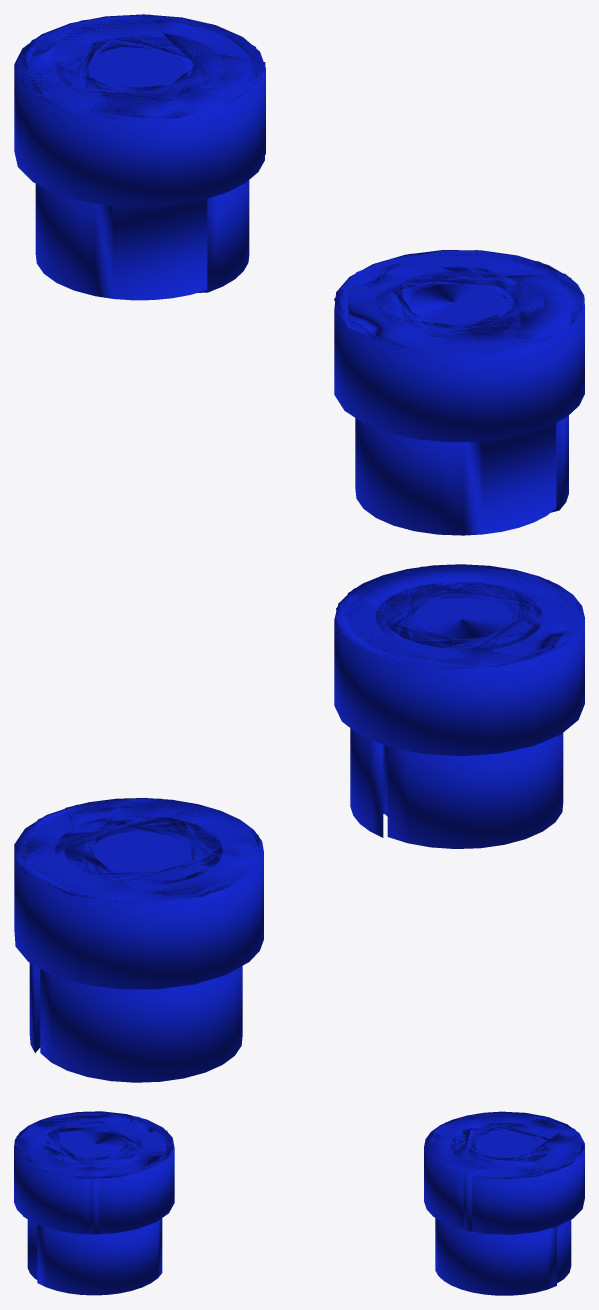
The model's file is tuyeau_element_000094.obj.
The picture shows the model from 3 angles, top to bottom: view 1: azimuth 30°, elevation 25°; view 2: azimuth 150°, elevation 25°; view 3: azimuth 270°, elevation 25°; orthographic projection. The views are drawn at different scales.
Parts seen in each view (by area): view 1: tuyeau1_Cube.014, tuyeau2_Cube.017; view 2: tuyeau2_Cube.017, tuyeau1_Cube.014; view 3: tuyeau1_Cube.014, tuyeau2_Cube.017.
Boxes of the visible parts, x1,y1,x2,y2 form: tuyeau1_Cube.014: (14, 14, 265, 300); tuyeau2_Cube.017: (334, 250, 584, 535); tuyeau2_Cube.017: (334, 564, 584, 848); tuyeau1_Cube.014: (14, 798, 263, 1082); tuyeau1_Cube.014: (424, 1111, 584, 1295); tuyeau2_Cube.017: (14, 1111, 174, 1295).
Bounding box in the file's own units: 3540 × 2917 × 12516.
